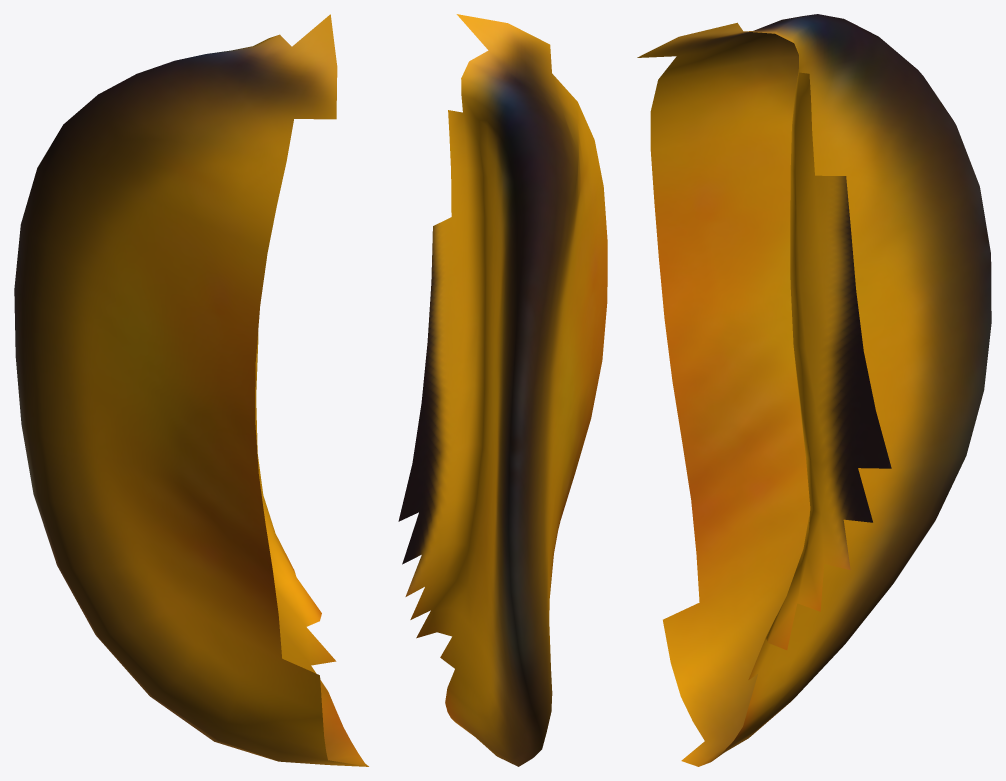
File: pesAletaDer.obj
3 renders of one model, left to right at view 1: azimuth 30°, elevation 25°; view 2: azimuth 150°, elevation 25°; view 3: azimuth 270°, elevation 25°, orthographic.
Parts seen in each view (by area): view 1: aletaIzq; view 2: aletaIzq; view 3: aletaIzq.
Part boxes in pixels (x1,y1,x2,y2): aletaIzq: (14,14,368,766); aletaIzq: (398,14,607,766); aletaIzq: (637,14,991,766).
Bounding box in the file's own units: 1.68 × 5.73 × 2.5.
Materials: 1 (1 with a texture image).
